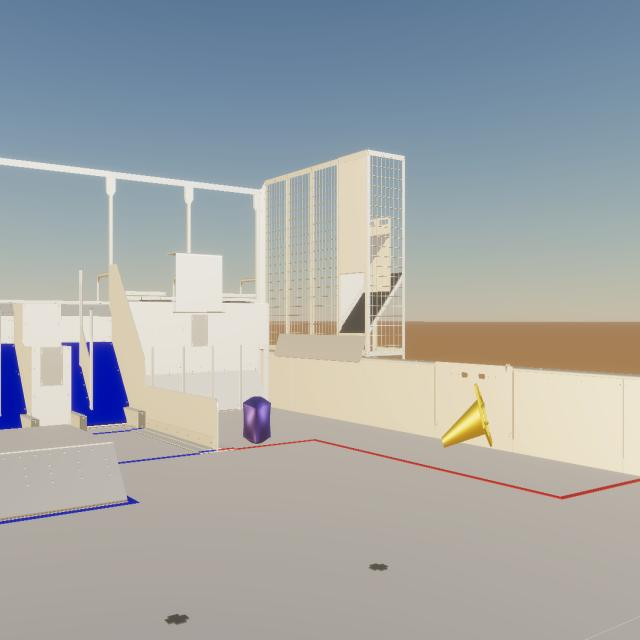frc_cone: (442, 383, 492, 448)
frc_cube: (243, 396, 271, 444)
